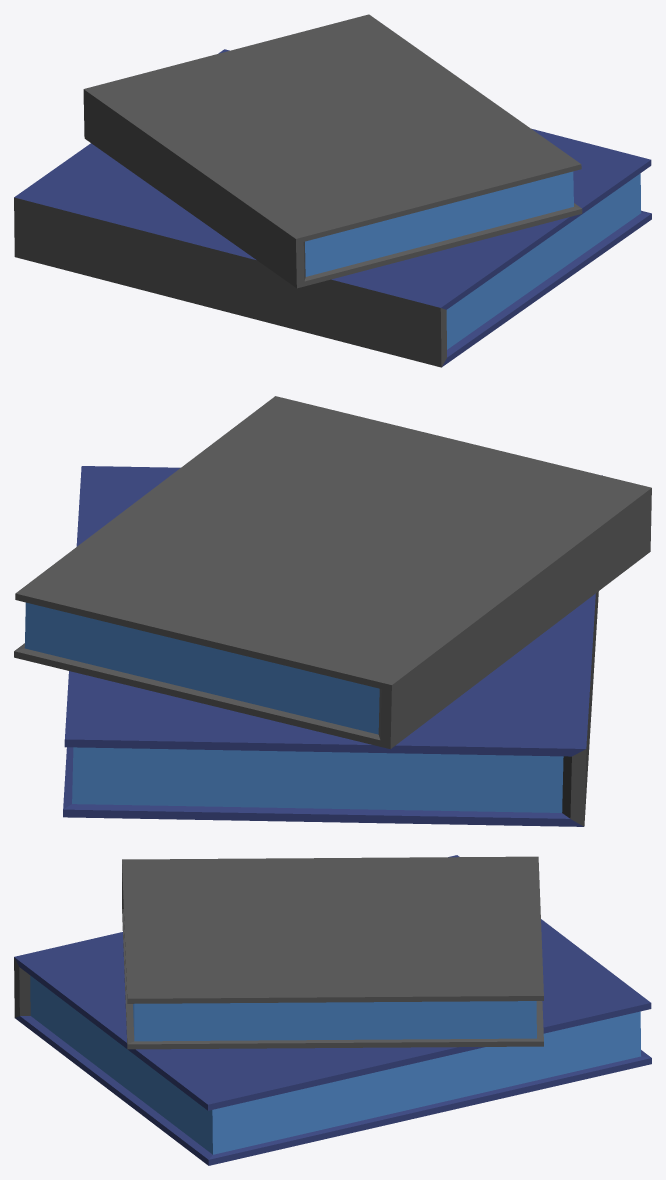
Rendered from Office2_Books1.fbx.
3 views of the same model, one above another, from view 1: azimuth 30°, elevation 25°; view 2: azimuth 150°, elevation 25°; view 3: azimuth 270°, elevation 25° (orthographic). The views are drawn at different scales.
Visible parts, largest first — view 1: Office2_Books1; view 2: Office2_Books1; view 3: Office2_Books1.
Boxes of the visible parts, x1=… form: Office2_Books1: x1=14, y1=14, x2=651, y2=367; Office2_Books1: x1=14, y1=396, x2=651, y2=826; Office2_Books1: x1=14, y1=855, x2=651, y2=1165.
Bounding box in the file's own units: 47.85 × 10.2 × 50.95.
